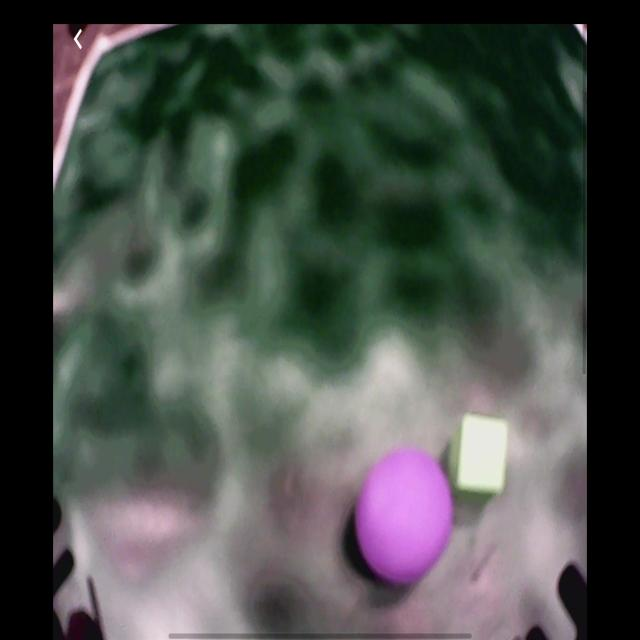ball: (355, 449, 453, 585)
